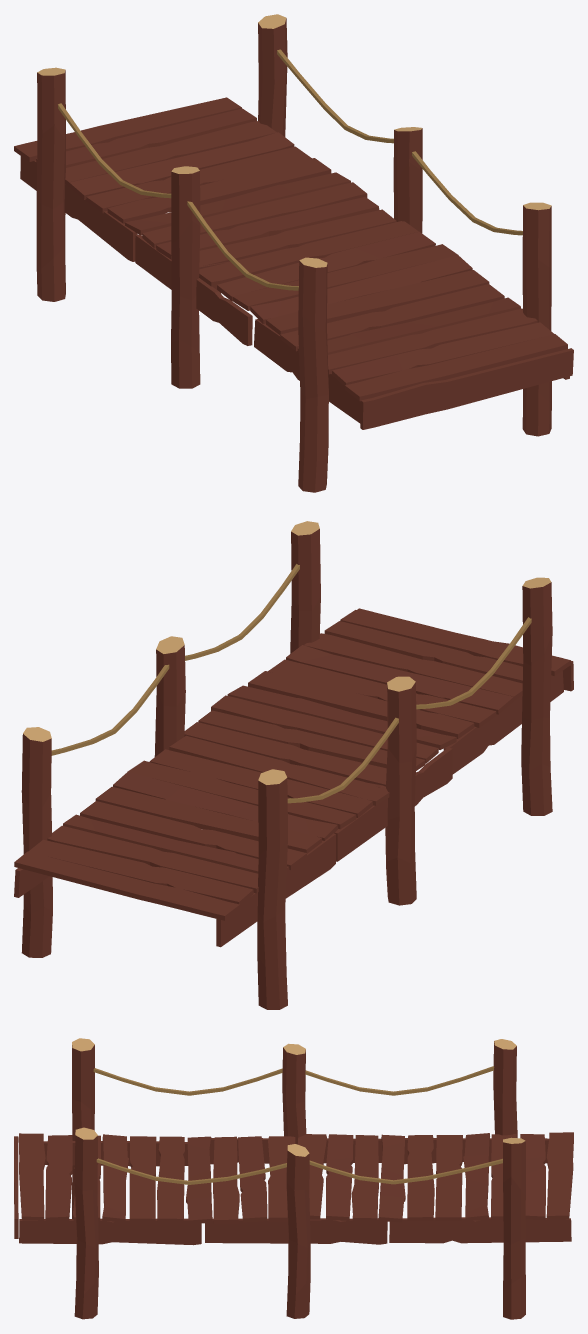
The model's file is dock_long.glb.
3 views of the same model, one above another, from view 1: azimuth 30°, elevation 25°; view 2: azimuth 150°, elevation 25°; view 3: azimuth 270°, elevation 25° (orthographic). The views are drawn at different scales.
Parts seen in each view (by area): view 1: Dock_Long; view 2: Dock_Long; view 3: Dock_Long.
Part boxes in pixels (x1,y1,x2,y2): Dock_Long: (14,14,573,492); Dock_Long: (14,521,573,1009); Dock_Long: (14,1038,573,1319).
Bounding box in the file's own units: 2.18 × 1.85 × 5.14.
